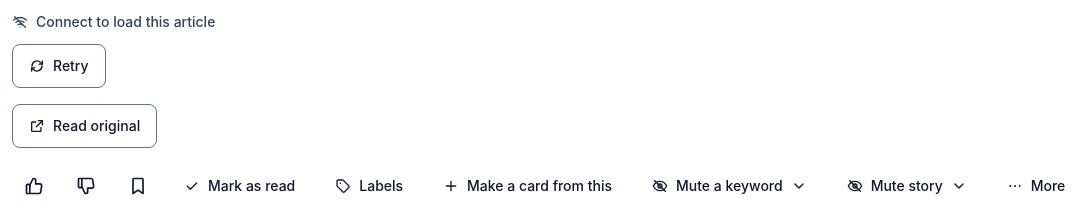
Test: an opened article offline that was never opened › offers a Retry for a server that cannot be reached, without a spinner while it tries
The width and height of the screenshot is (1082, 212).
Expected: the text "Connect to load this article" is shown, [12,12,215,32]
What coordinates should you click on to do the following:
click the button "Retry"
I would click on:
 (59, 66)
Its box is [12,44,106,88].
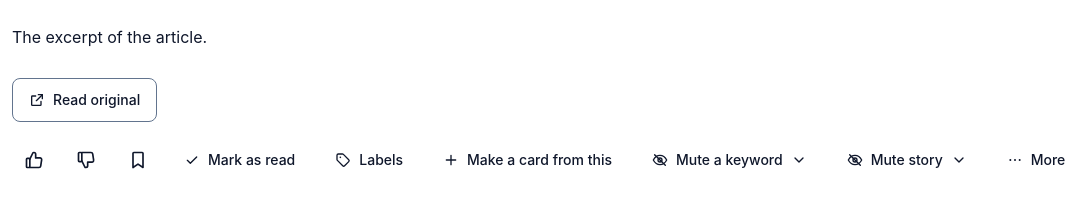
Now the text "The excerpt of the article." is shown, box [12,27,207,47]
Now the text "Connect to load this article" is gone
